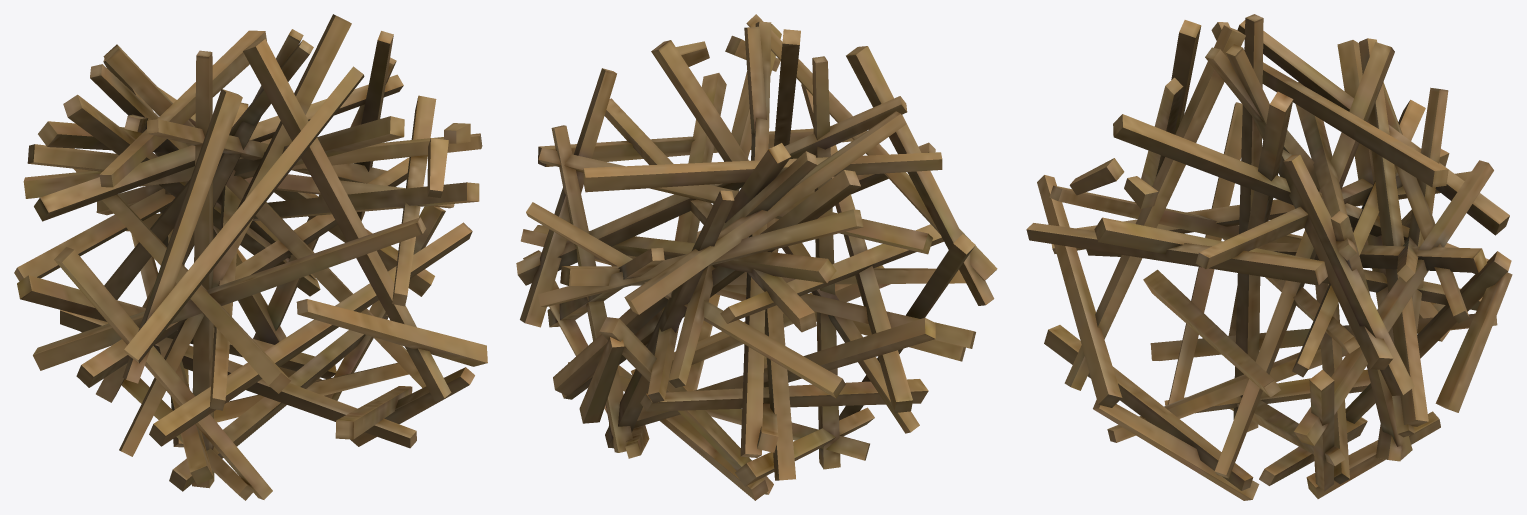
Rendered from rodadora.glb.
The picture shows the model from 3 angles, left to right: view 1: azimuth 30°, elevation 25°; view 2: azimuth 150°, elevation 25°; view 3: azimuth 270°, elevation 25°; orthographic projection. The views are drawn at different scales.
Parts seen in each view (by area): view 1: rodadora; view 2: rodadora; view 3: rodadora.
Part boxes in pixels (<box>): rodadora: <box>14,14,487,500</box>; rodadora: <box>516,14,997,500</box>; rodadora: <box>1026,14,1512,500</box>.
Bounding box in the file's own units: 0.8433 × 0.8281 × 0.8544.
1 material, 1 textured.
